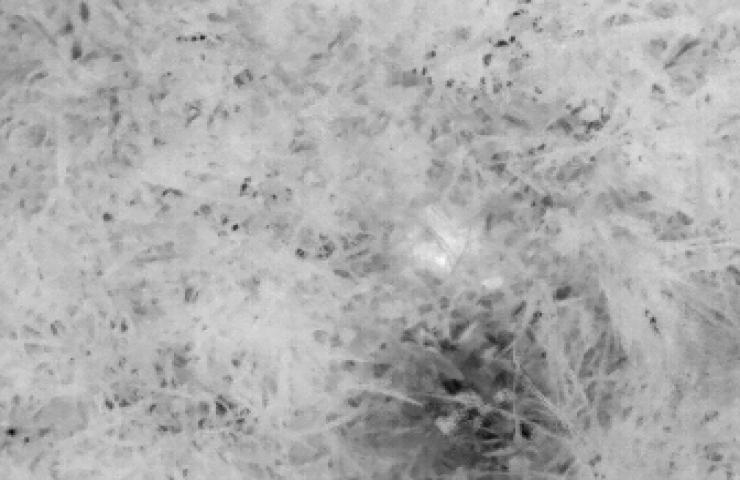landmines: (400, 199, 489, 274)
